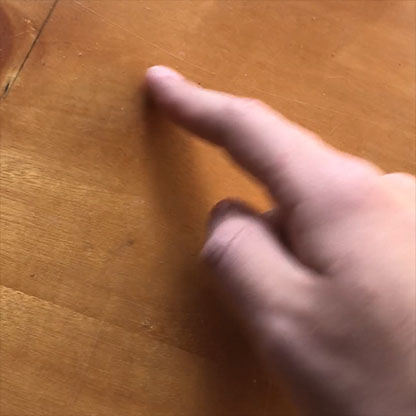fingertip: (139, 52, 195, 104)
